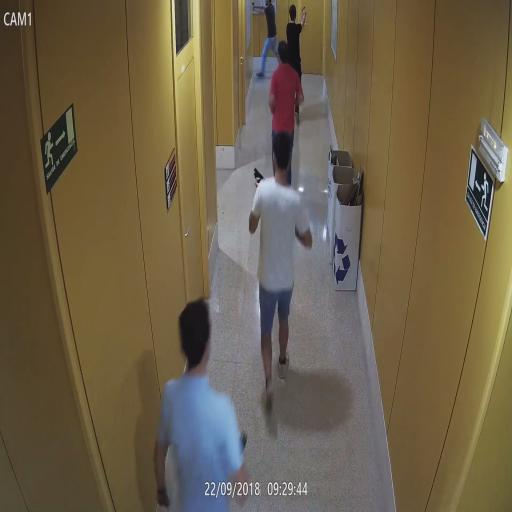Handgun: (301, 3, 307, 12)
